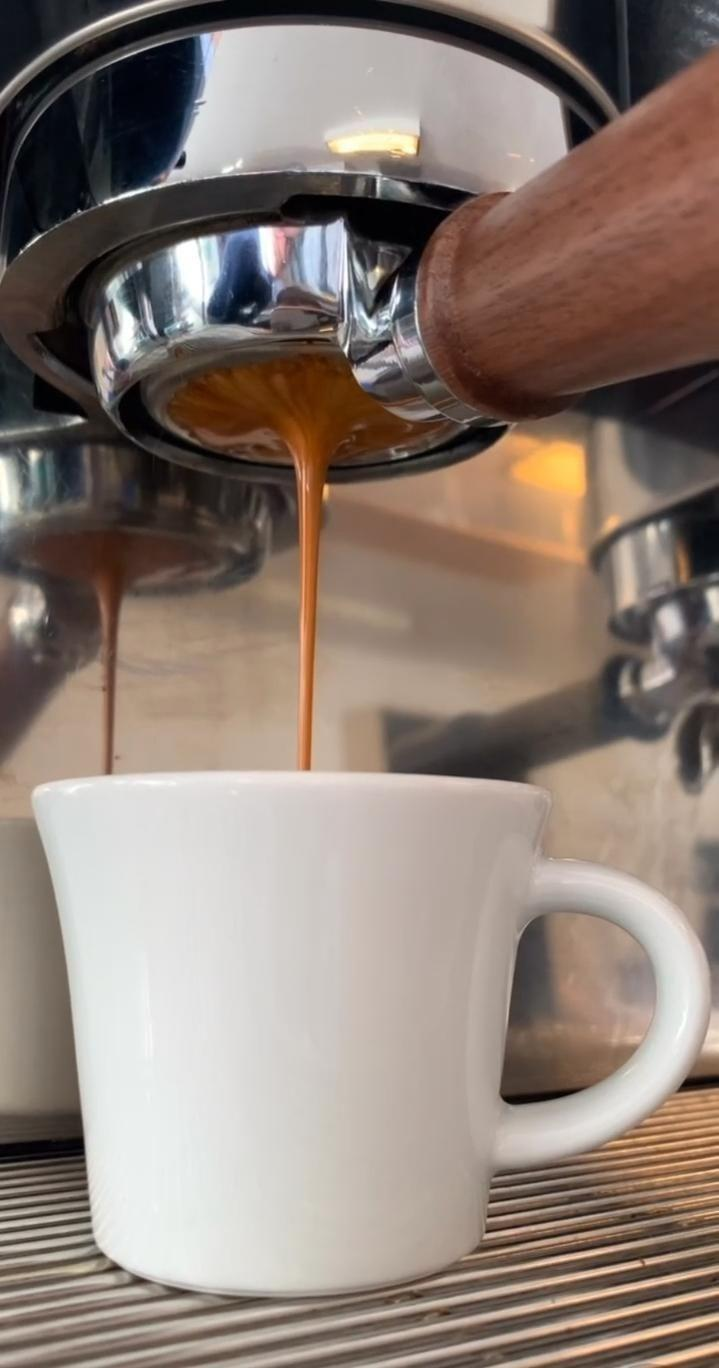cup-handle: (27, 767, 718, 1304)
